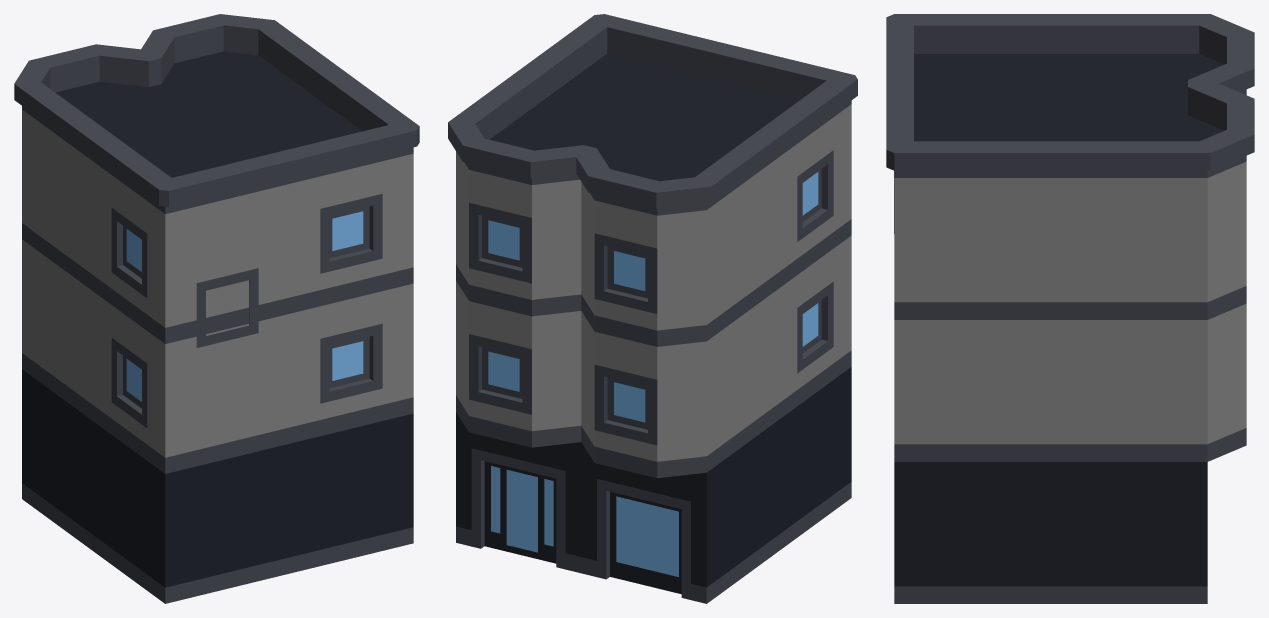
File: variant_8.obj
3 renders of one model, left to right at view 1: azimuth 30°, elevation 25°; view 2: azimuth 150°, elevation 25°; view 3: azimuth 270°, elevation 25°, orthographic. The views are drawn at different scales.
Parts seen in each view (by area): view 1: Building, Building_copy, Window_copy; view 2: Building; view 3: Building.
Boxes of the visible parts, bbox=[...] form: Building: bbox=[14, 14, 419, 603]; Building_copy: bbox=[165, 215, 413, 343]; Window_copy: bbox=[196, 268, 258, 347]; Building: bbox=[448, 14, 857, 603]; Building: bbox=[886, 14, 1254, 603].
Bounding box in the file's own units: 0.84 × 1.28 × 0.94.
